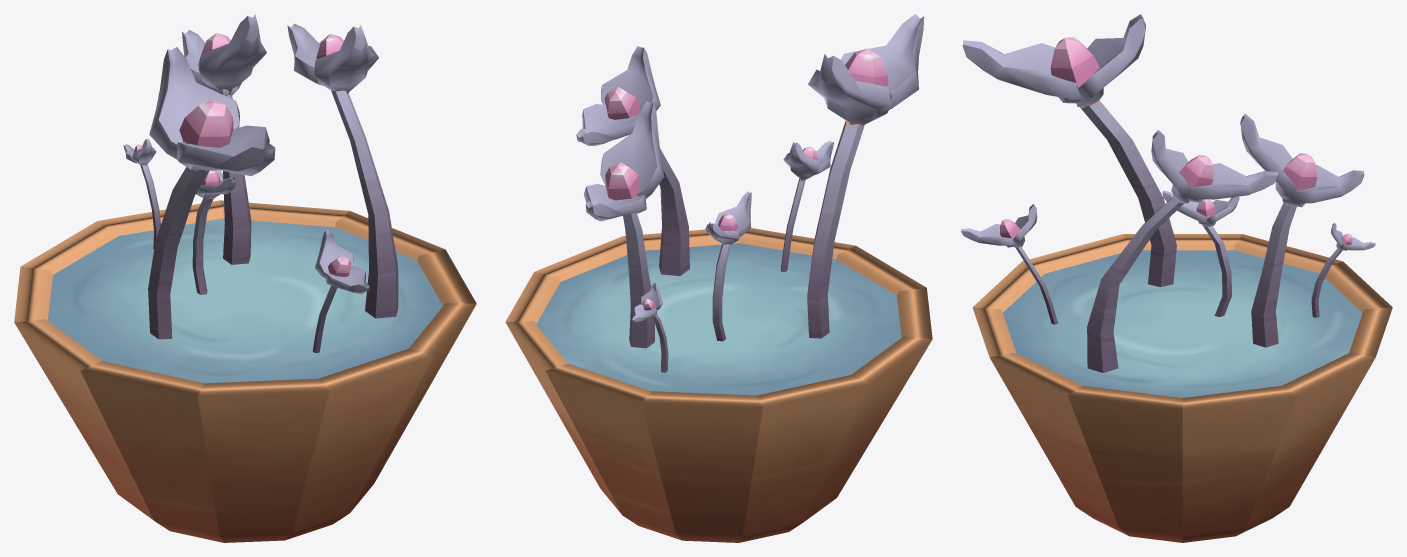
The model's file is WaterPlant01.fbx.
The picture shows the model from 3 angles, left to right: view 1: azimuth 30°, elevation 25°; view 2: azimuth 150°, elevation 25°; view 3: azimuth 270°, elevation 25°; orthographic projection. The views are drawn at different scales.
Visible parts, largest first — view 1: WaterPlant01; view 2: WaterPlant01; view 3: WaterPlant01.
Part boxes in pixels (x1,y1,x2,y2): WaterPlant01: (14,14,476,542); WaterPlant01: (505,14,932,542); WaterPlant01: (961,14,1392,542).
Size of the model in its own units: 5.12 by 6.01 by 5.31.
